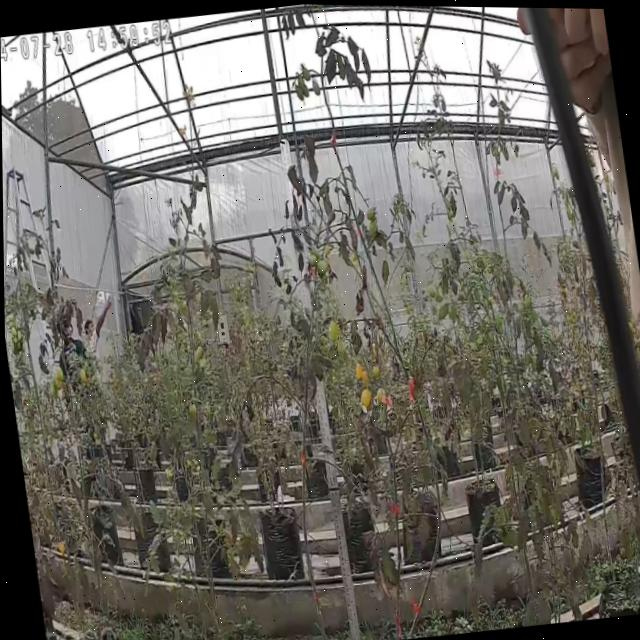fine: (358, 385, 372, 406), (353, 360, 364, 381)
unripe: (324, 315, 343, 348), (315, 257, 328, 275)
